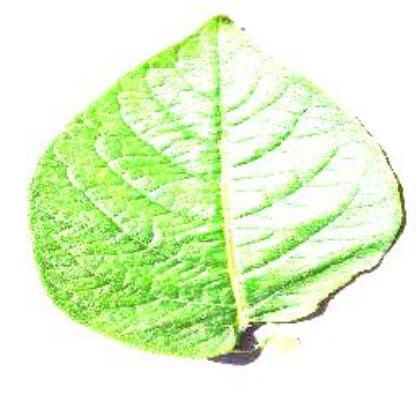Healthy-plant: (27, 11, 406, 365)
